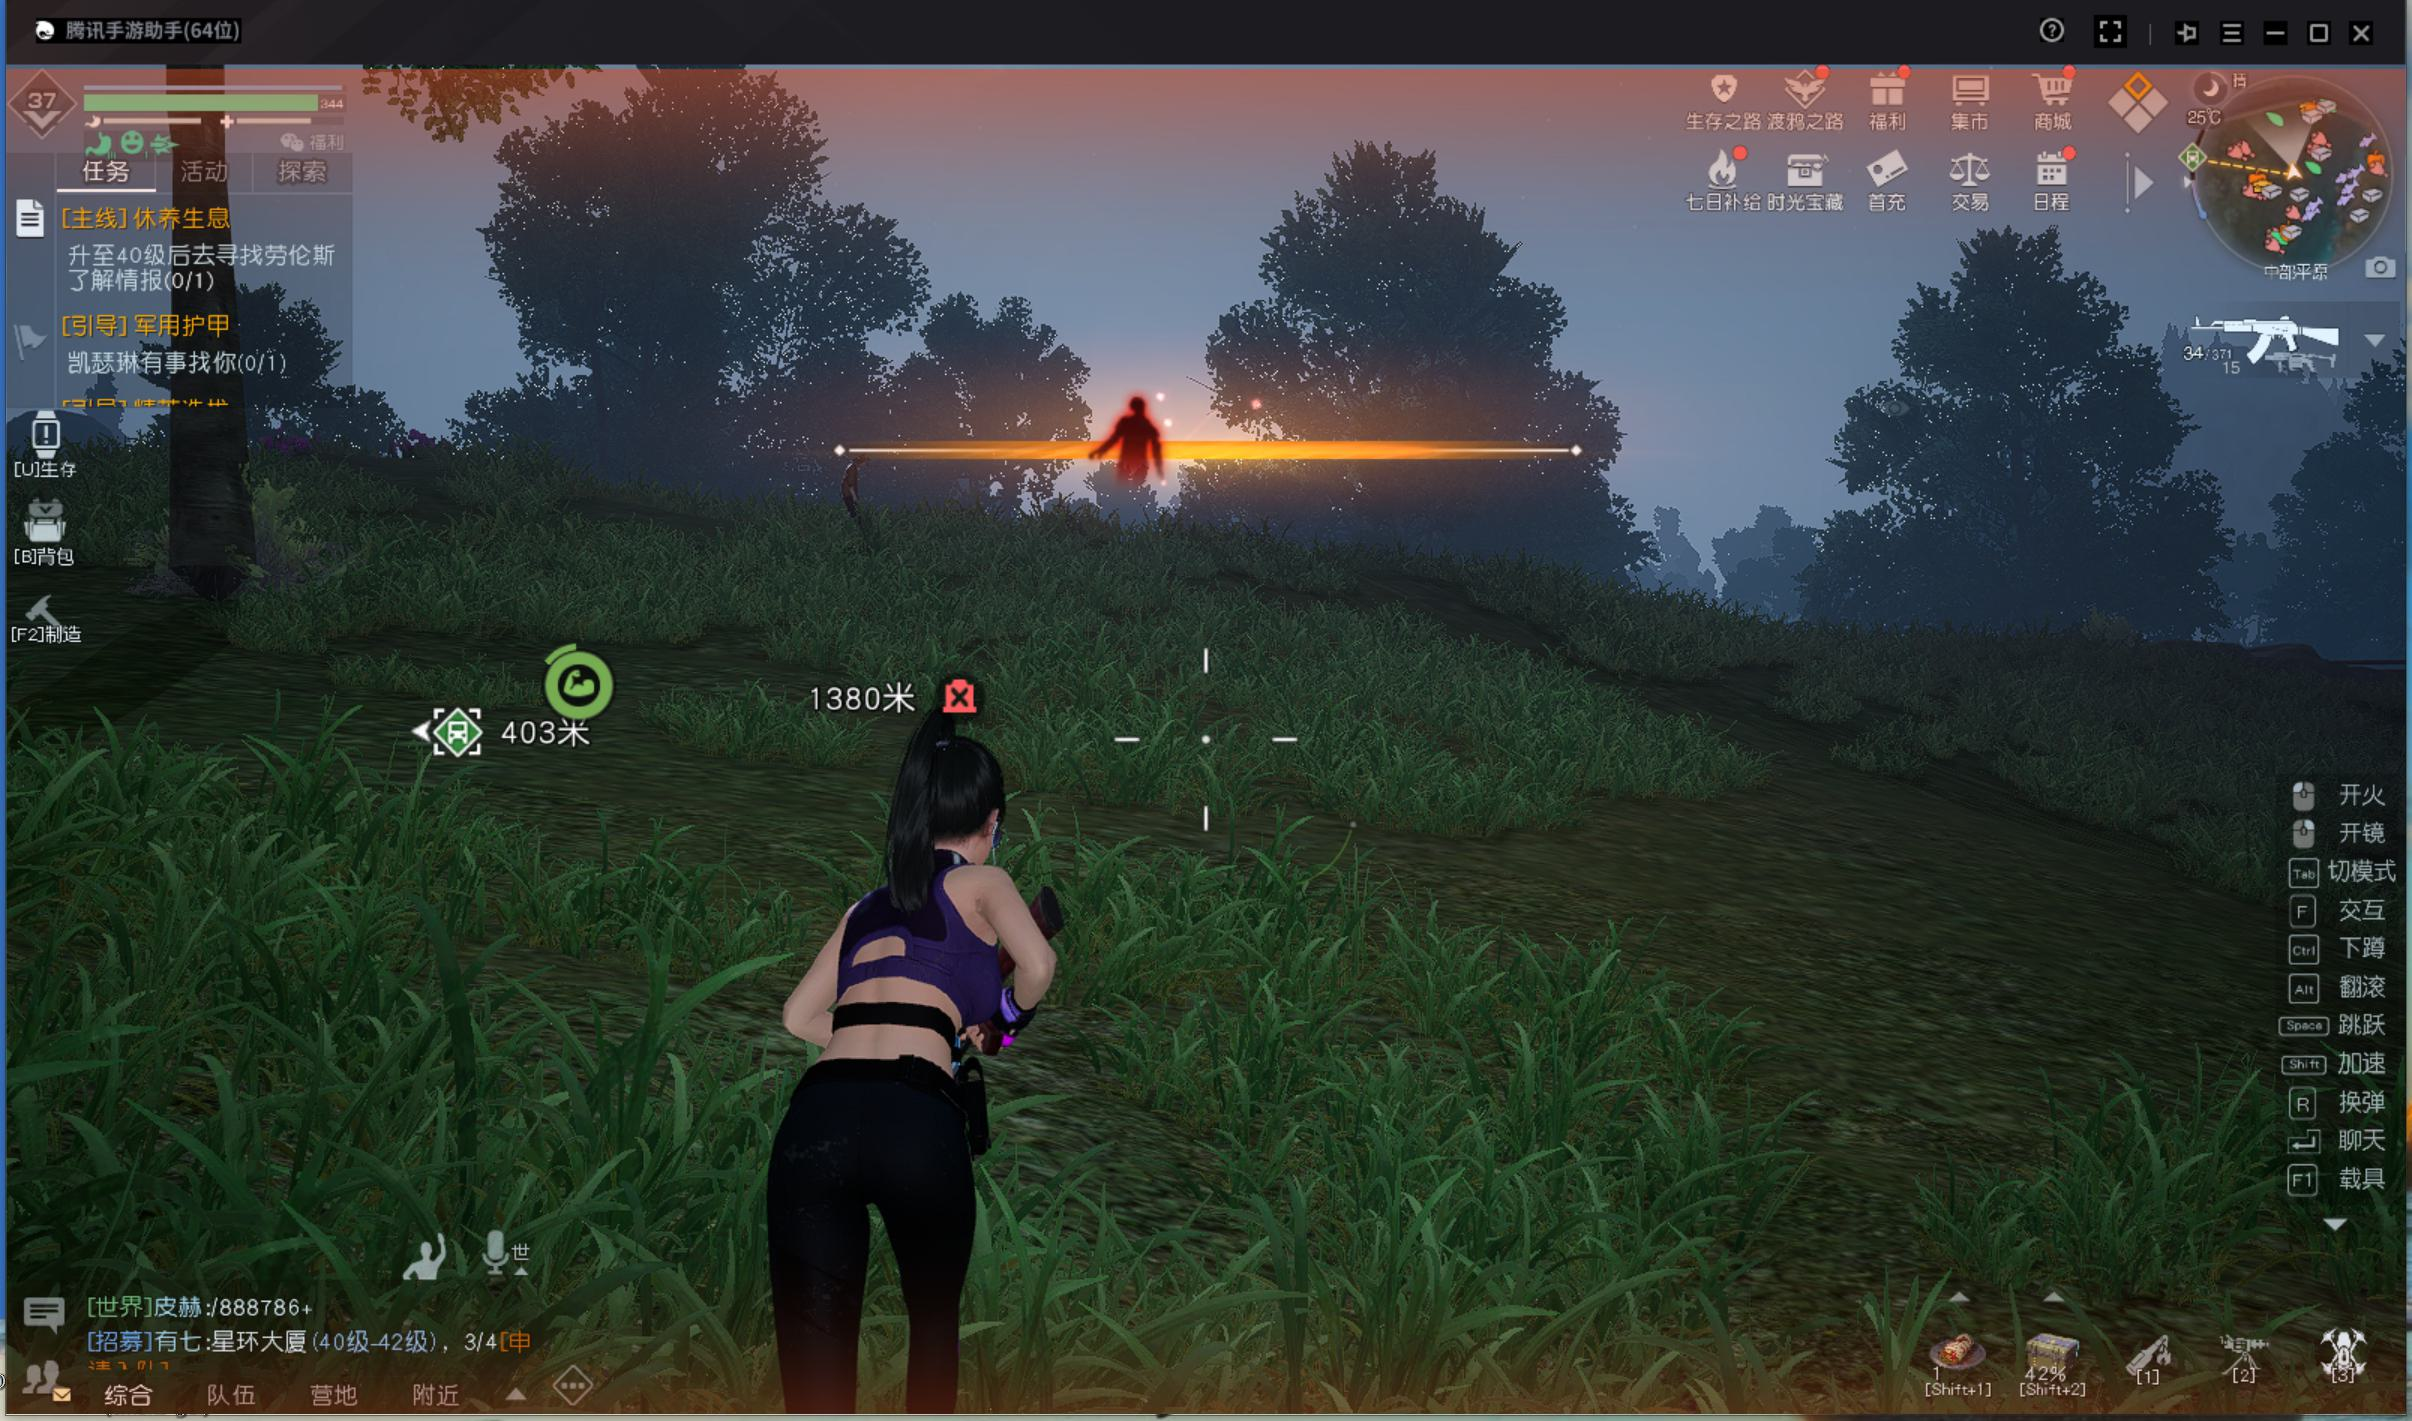tree: (144, 122, 276, 629)
